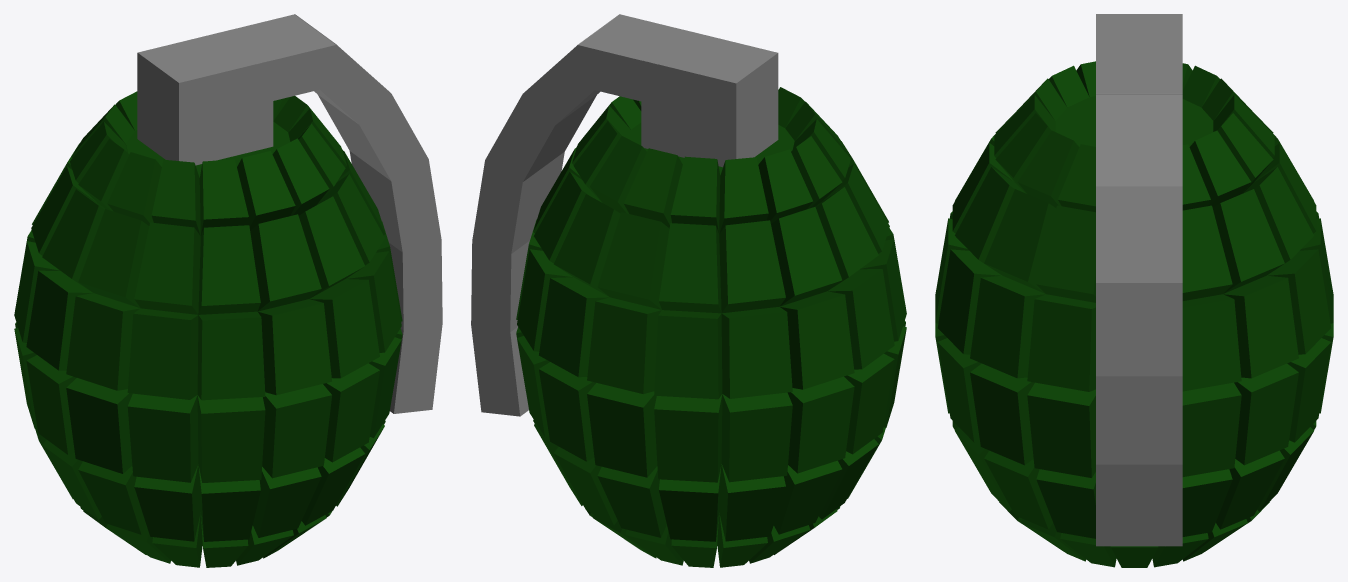
The model's file is BlenderGrenade.fbx.
3 views of the same model, side by side, from view 1: azimuth 30°, elevation 25°; view 2: azimuth 150°, elevation 25°; view 3: azimuth 270°, elevation 25° (orthographic). The views are drawn at different scales.
Parts seen in each view (by area): view 1: Grenade, Pin; view 2: Grenade, Pin; view 3: Grenade, Pin.
Part boxes in pixels (x1,y1,x2,y2): Grenade: [14, 91, 402, 567]; Pin: [137, 14, 442, 413]; Grenade: [516, 87, 906, 567]; Pin: [471, 14, 778, 416]; Grenade: [935, 61, 1333, 567]; Pin: [1096, 14, 1182, 546].
Bounding box in the file's own units: 31.96 × 38.13 × 27.79.
